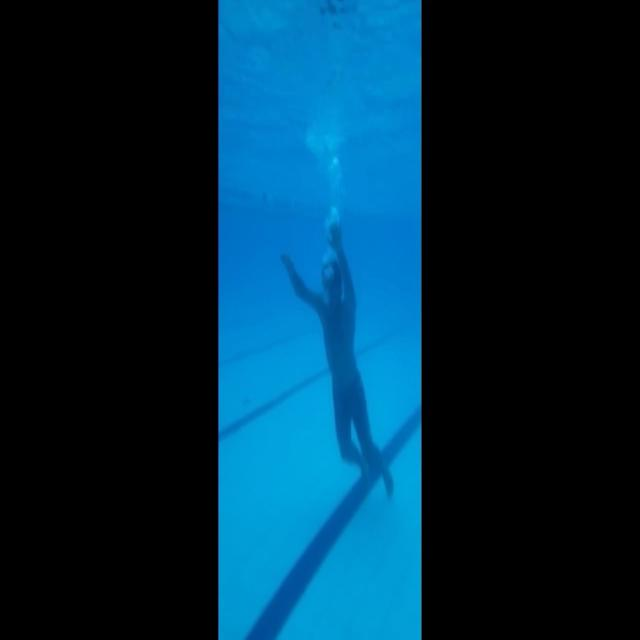drowning: (273, 213, 406, 555)
